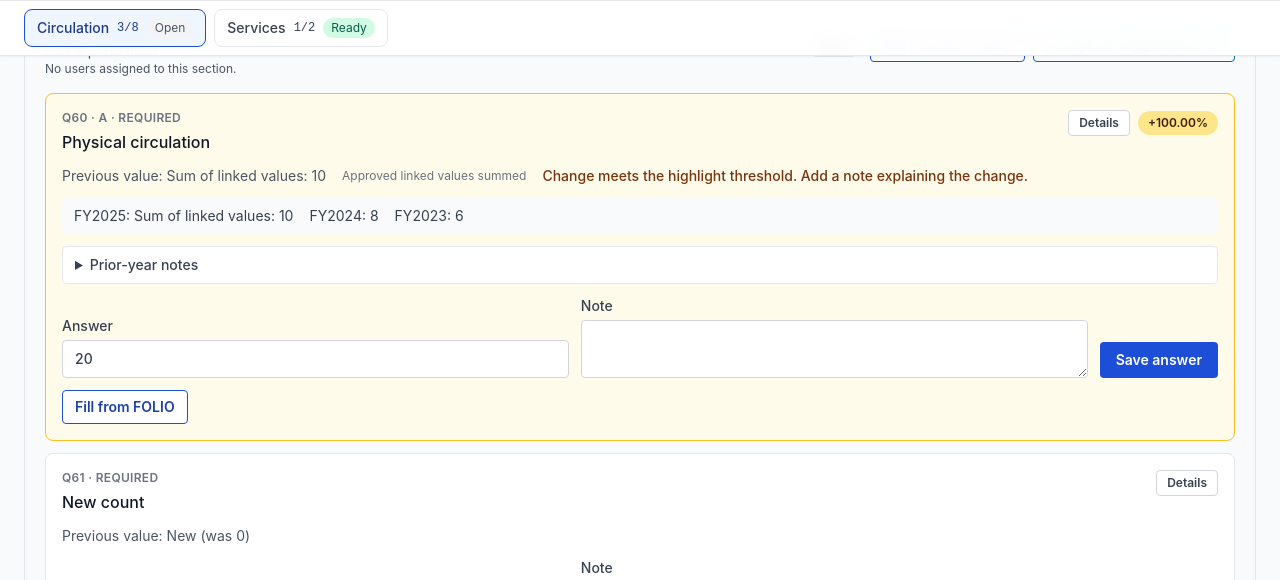
Scenario: ACRL entry page › shows the current value after an optimistic-lock conflict
(page scrolled)
expect the text "3 of 8 parts filled" is shown: met, box x1=45 y1=42 x2=158 y2=59
Click the 1st button "Save answer": (1159, 360) x1=1100 y1=342 x2=1218 y2=378
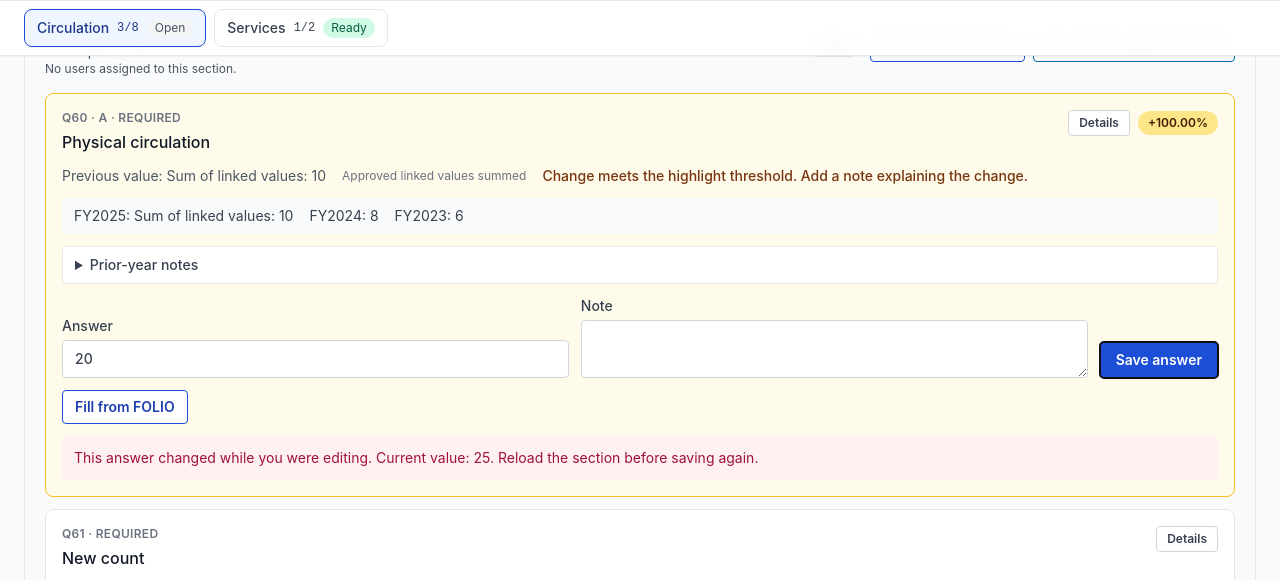
expect the message shows "Current value: 25": met, box x1=74 y1=449 x2=758 y2=466
